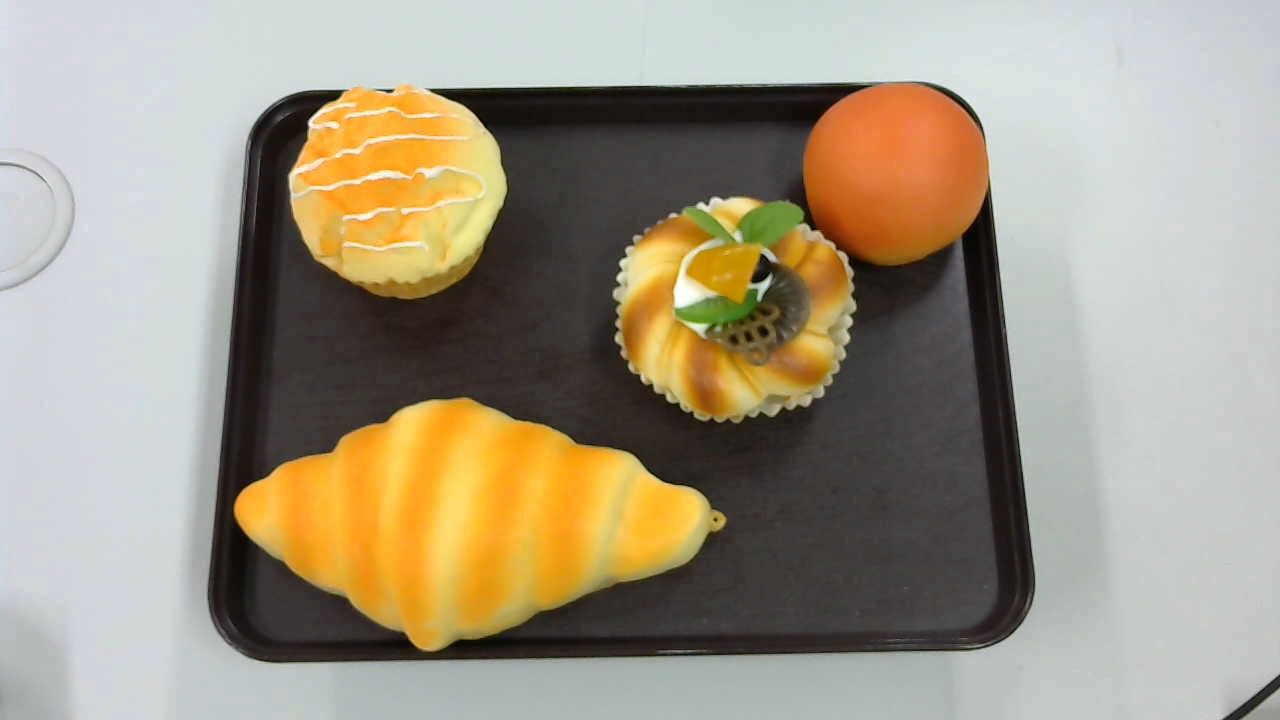bun: (804, 84, 990, 267)
croissant: (234, 396, 728, 654)
cupcake: (289, 86, 507, 304)
fruit tart: (614, 192, 855, 426)
